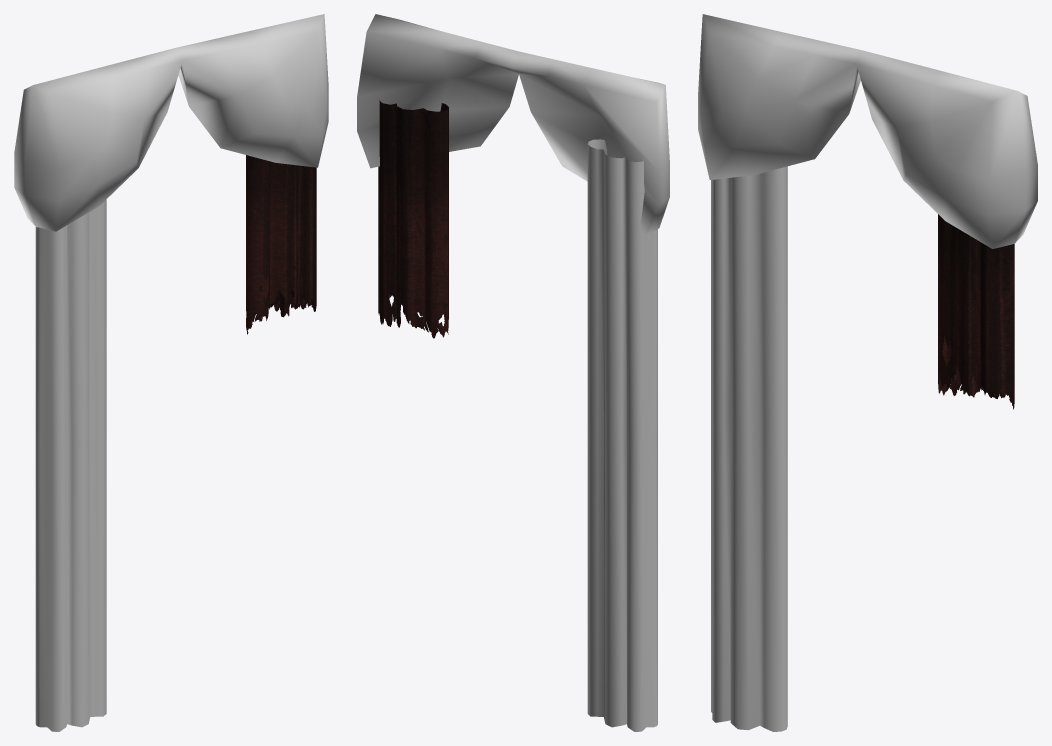
The model's file is curtain02_long_broken02.dae.
The picture shows the model from 3 angles, left to right: view 1: azimuth 30°, elevation 25°; view 2: azimuth 150°, elevation 25°; view 3: azimuth 330°, elevation 25°; orthographic projection. The views are drawn at different scales.
Parts seen in each view (by area): view 1: polySurface198, polySurface201, polySurface193, polySurface192; view 2: polySurface198, polySurface201, polySurface193; view 3: polySurface198, polySurface201, polySurface193.
Boxes of the visible parts, x1,y1,x2,y2 form: polySurface198: [14, 14, 328, 731]; polySurface201: [14, 15, 328, 731]; polySurface193: [246, 155, 316, 334]; polySurface192: [254, 264, 307, 317]; polySurface198: [357, 14, 669, 731]; polySurface201: [357, 16, 669, 731]; polySurface193: [378, 100, 448, 338]; polySurface198: [698, 14, 1037, 731]; polySurface201: [698, 15, 1037, 731]; polySurface193: [938, 214, 1014, 409].
Size of what is drawn, in the model's own units: 250 by 508 by 46.73.
